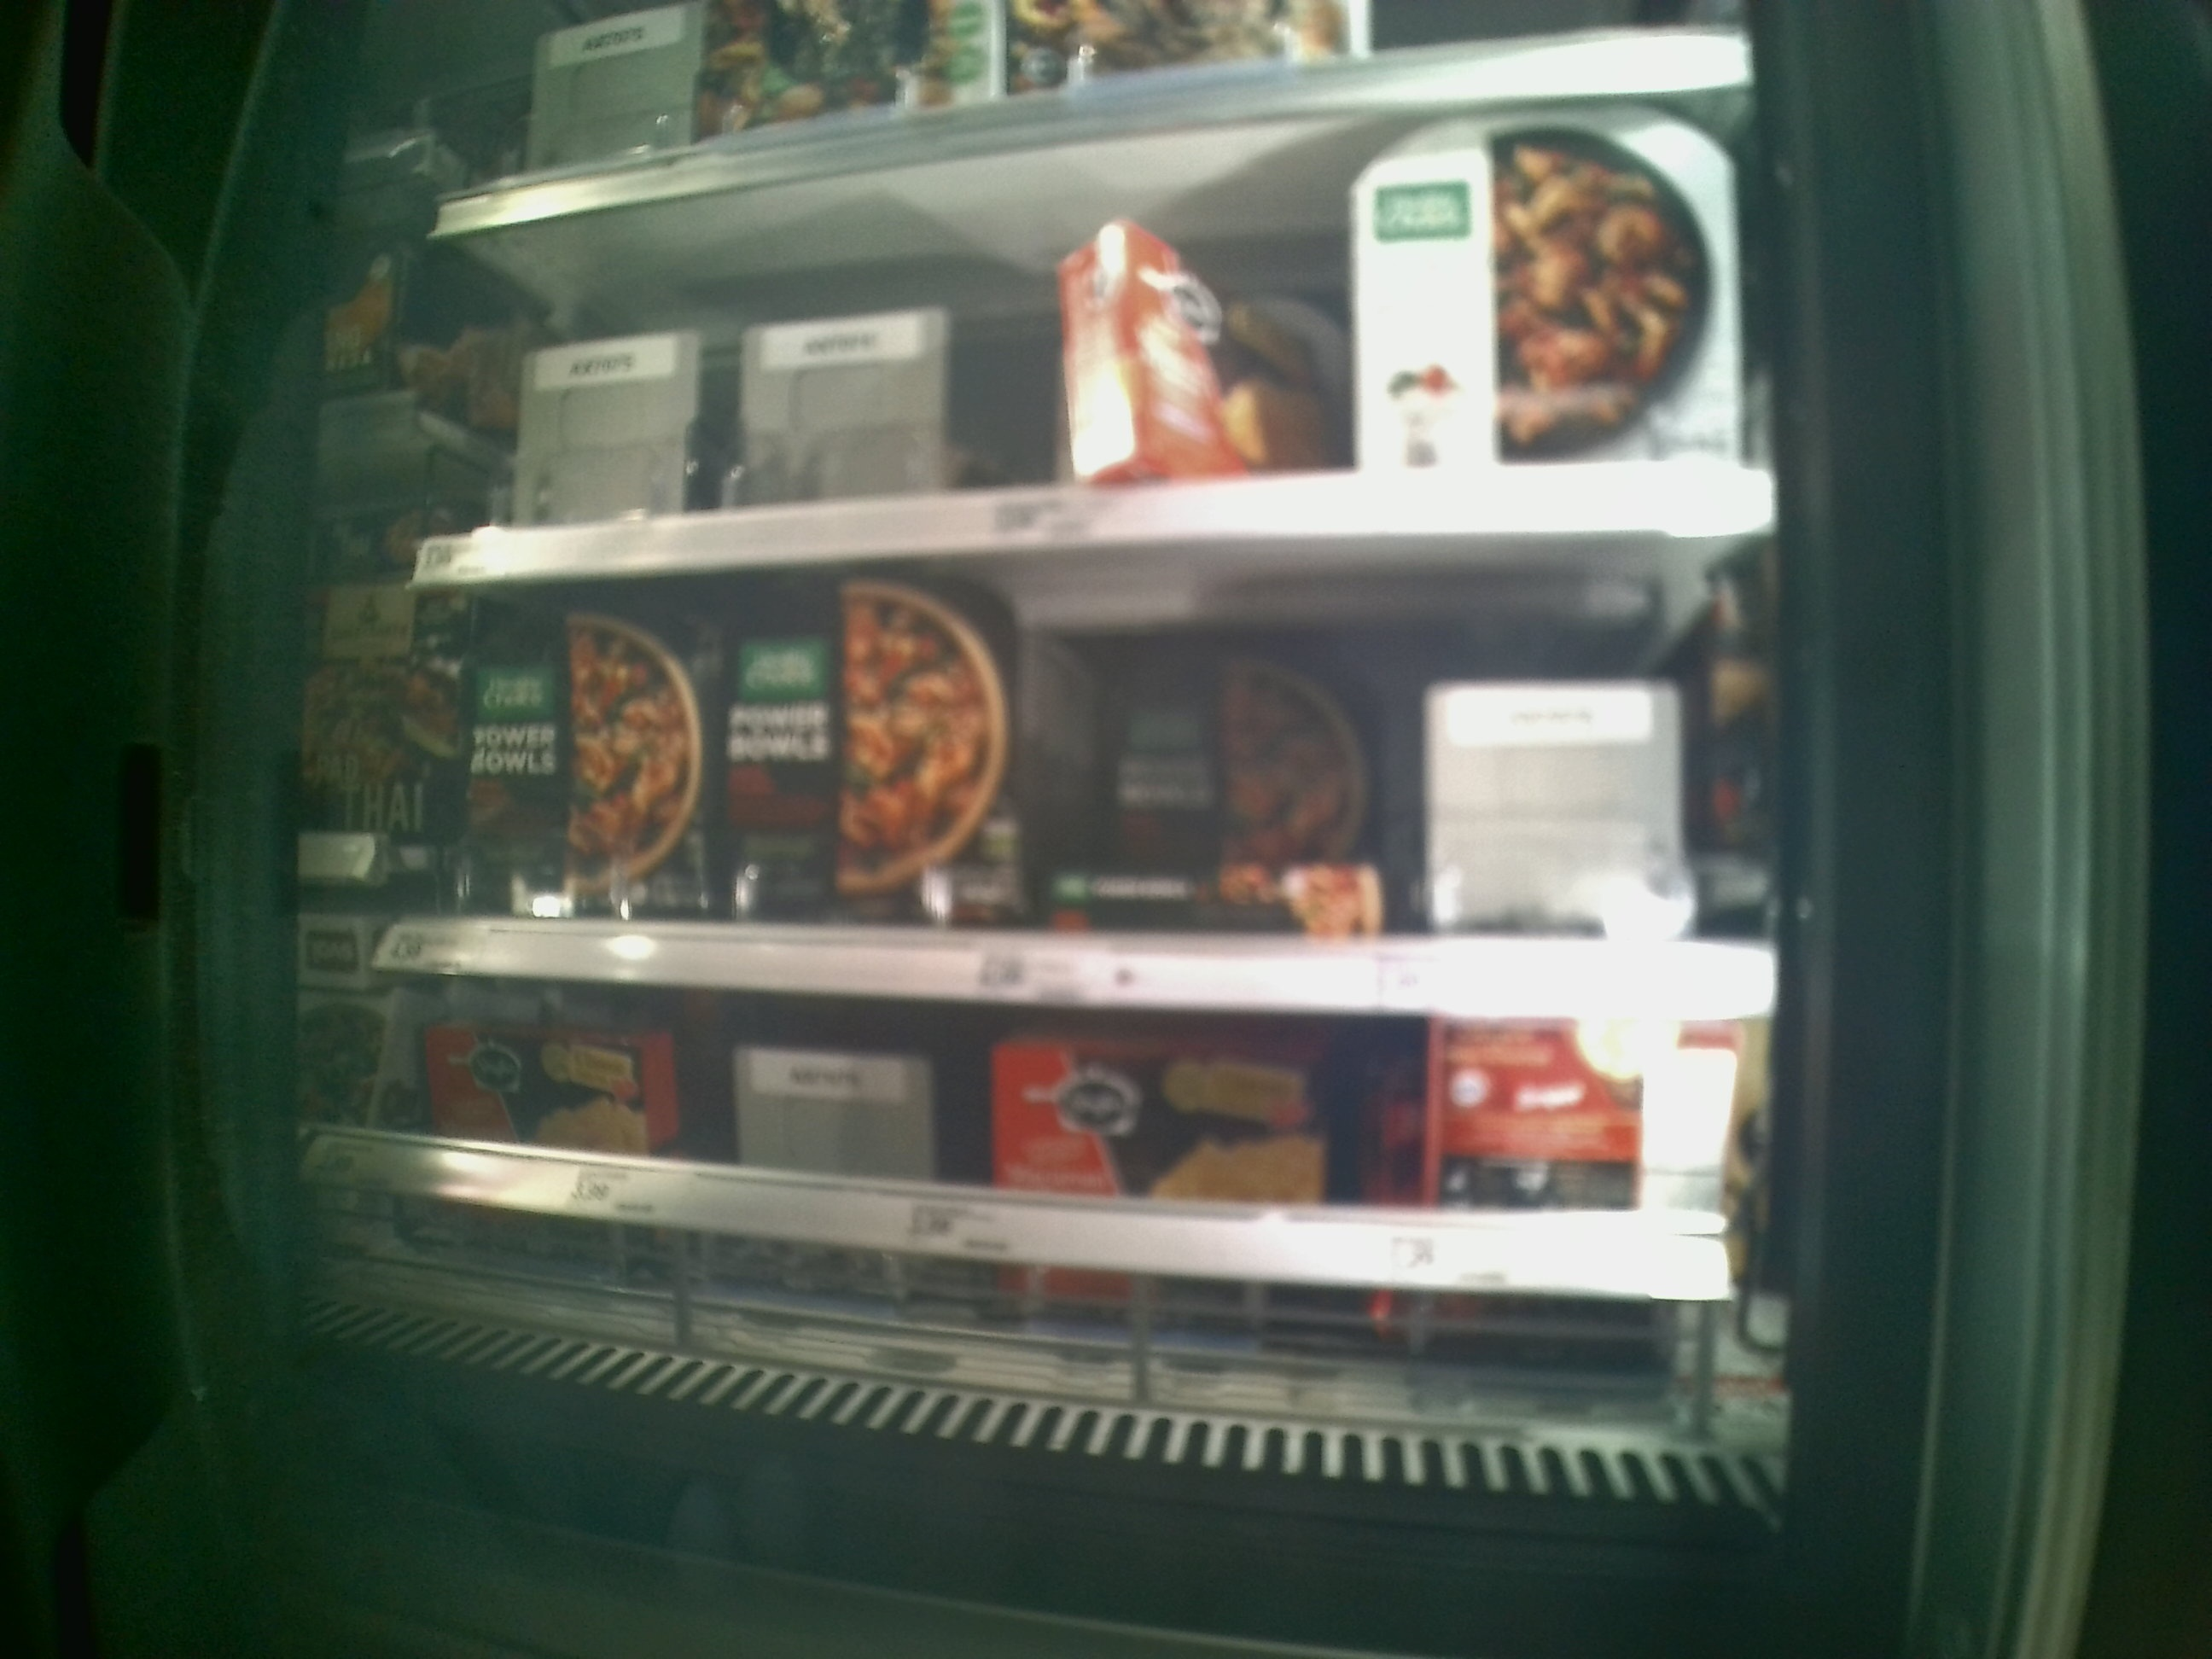shelf: (359, 974, 1792, 1469), (406, 540, 1787, 1018), (421, 84, 1777, 556)
